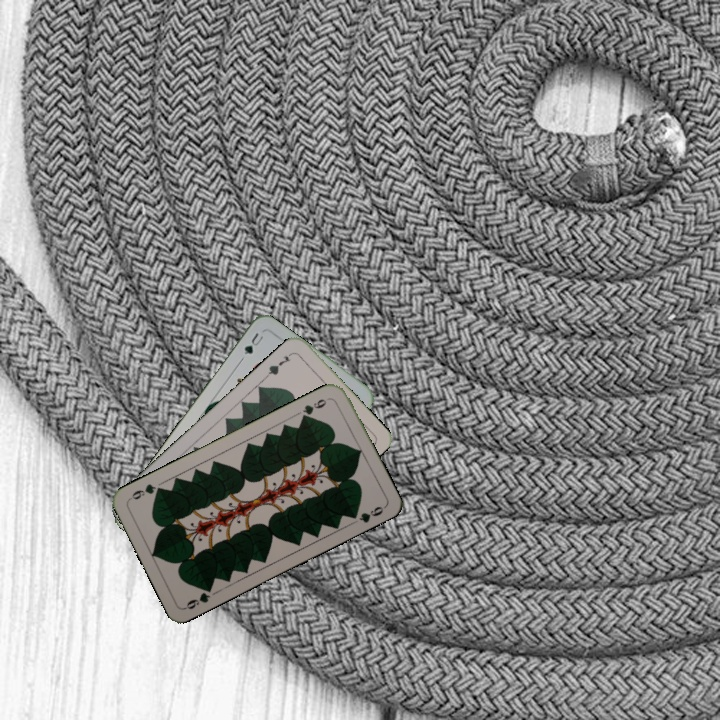G7: (263, 351, 293, 380)
G9: (181, 581, 215, 612), (297, 395, 329, 422)
GU: (240, 328, 266, 357)
